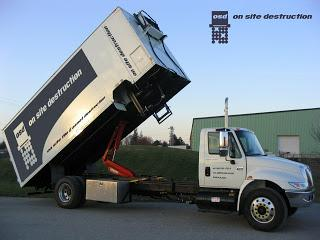truck: (2, 6, 314, 232)
